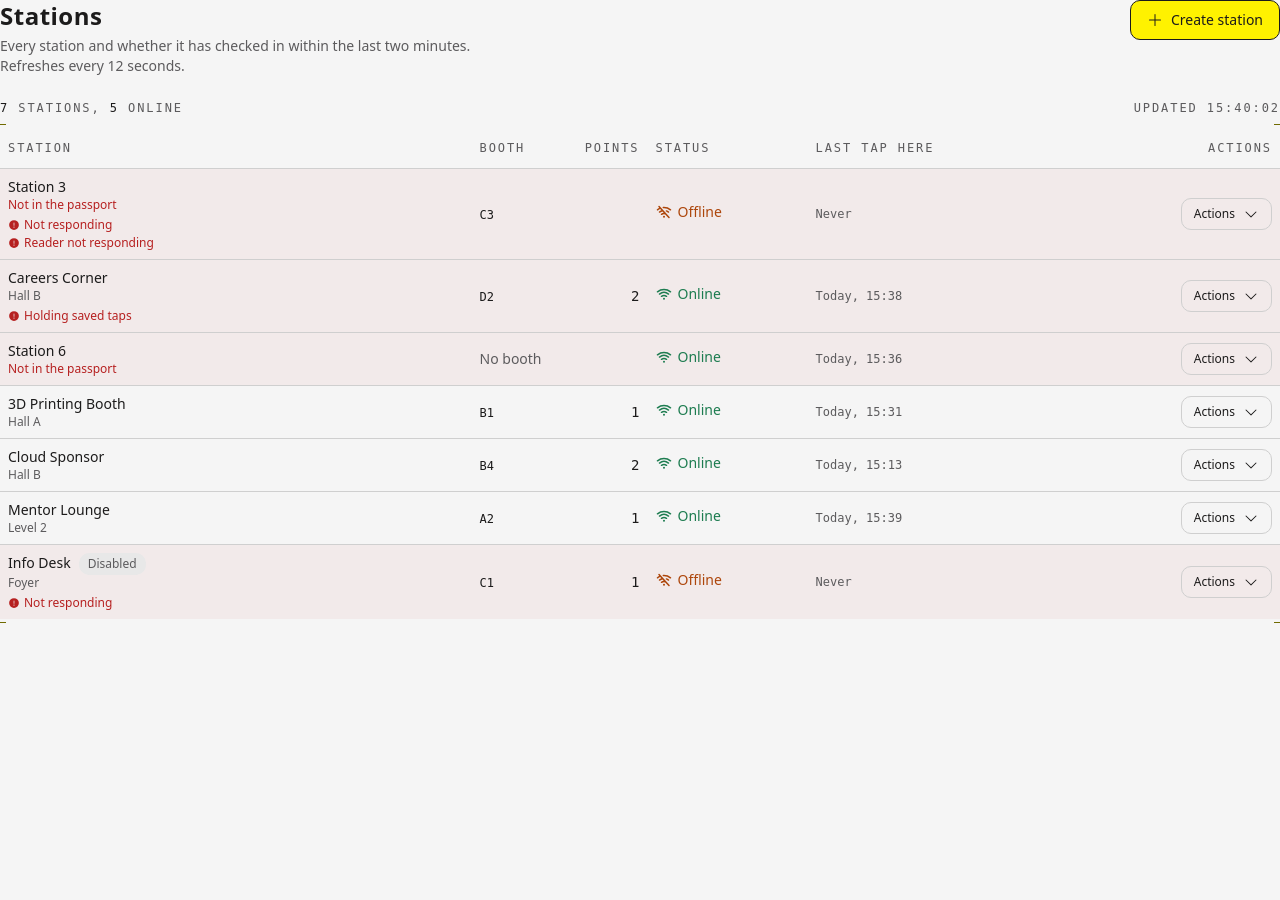
passport settings on the station board › shows a field error for a link that is not https
The width and height of the screenshot is (1280, 900).
Step 1. Click the button "Actions" in the row of "3D Printing Booth" → (1226, 412), box [1181, 396, 1272, 428]
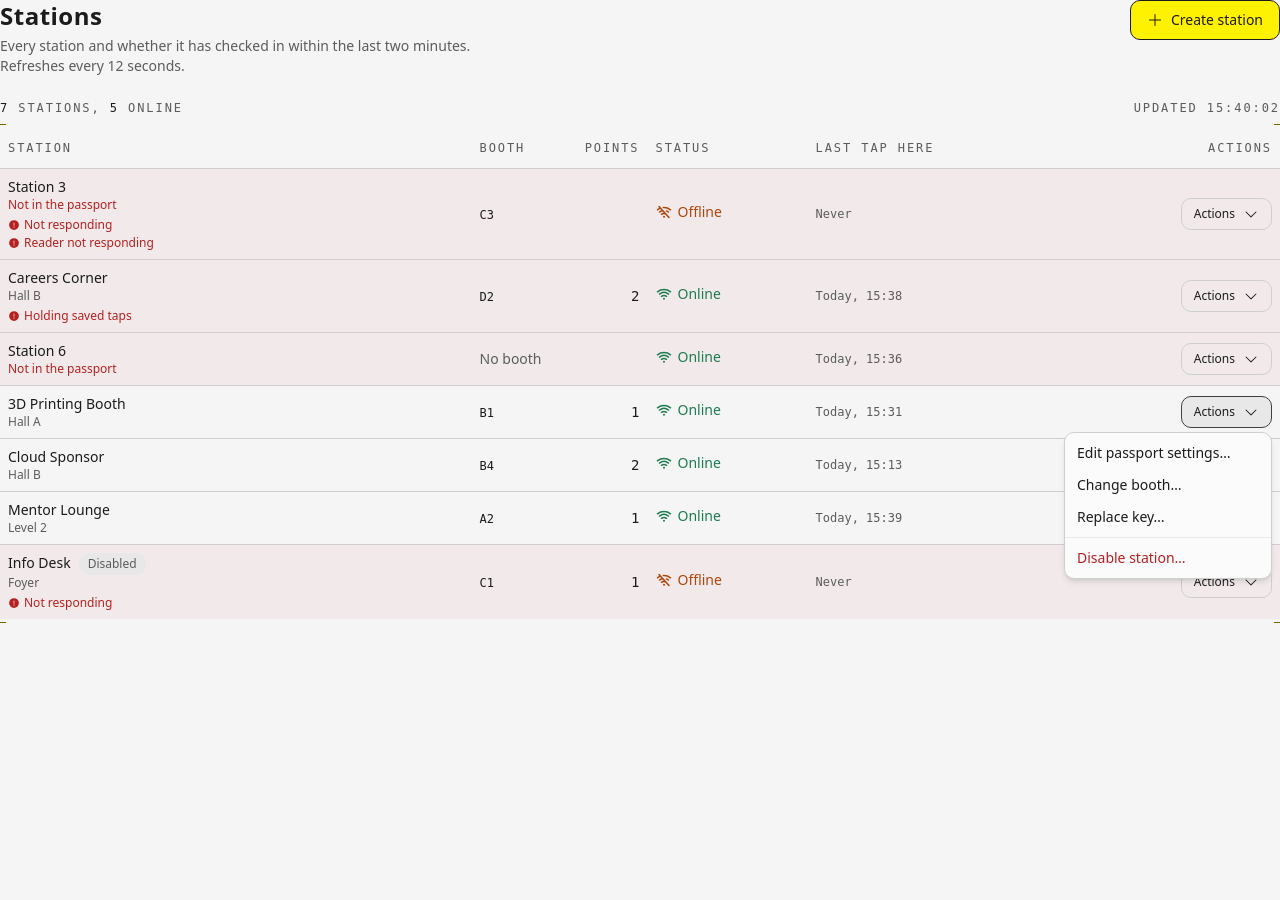
expect the menu is shown: met, box [1064, 432, 1272, 579]
Step 2. Click the menu item "Edit passport settings…" → (1154, 452), box [1077, 443, 1230, 462]
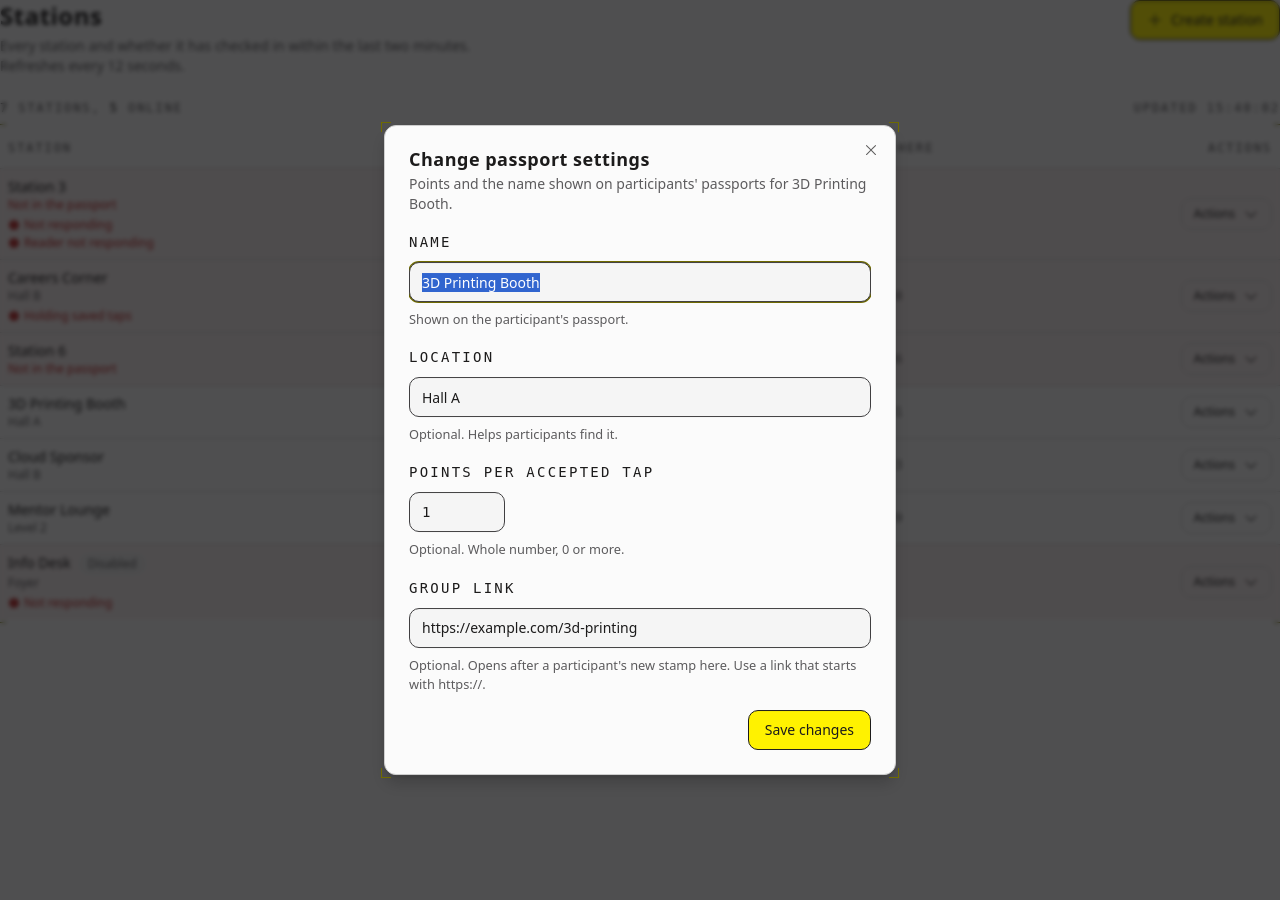
Step 3. Replace the text in the field labelled "Group link" with "http://example.com/careers" → (640, 628), box [409, 608, 871, 648]
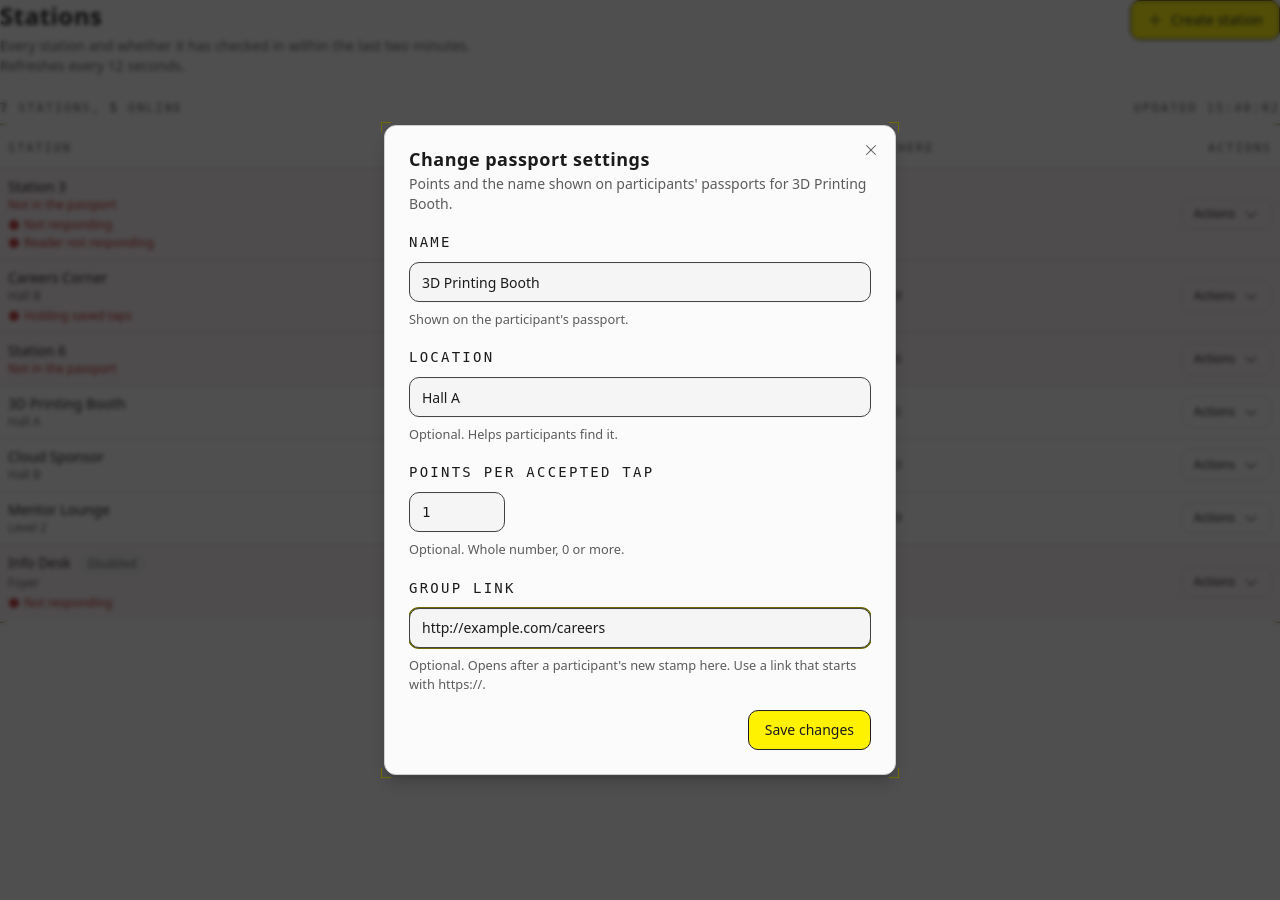
Step 4. Click the button "Save changes" → (809, 730), box [748, 710, 871, 750]
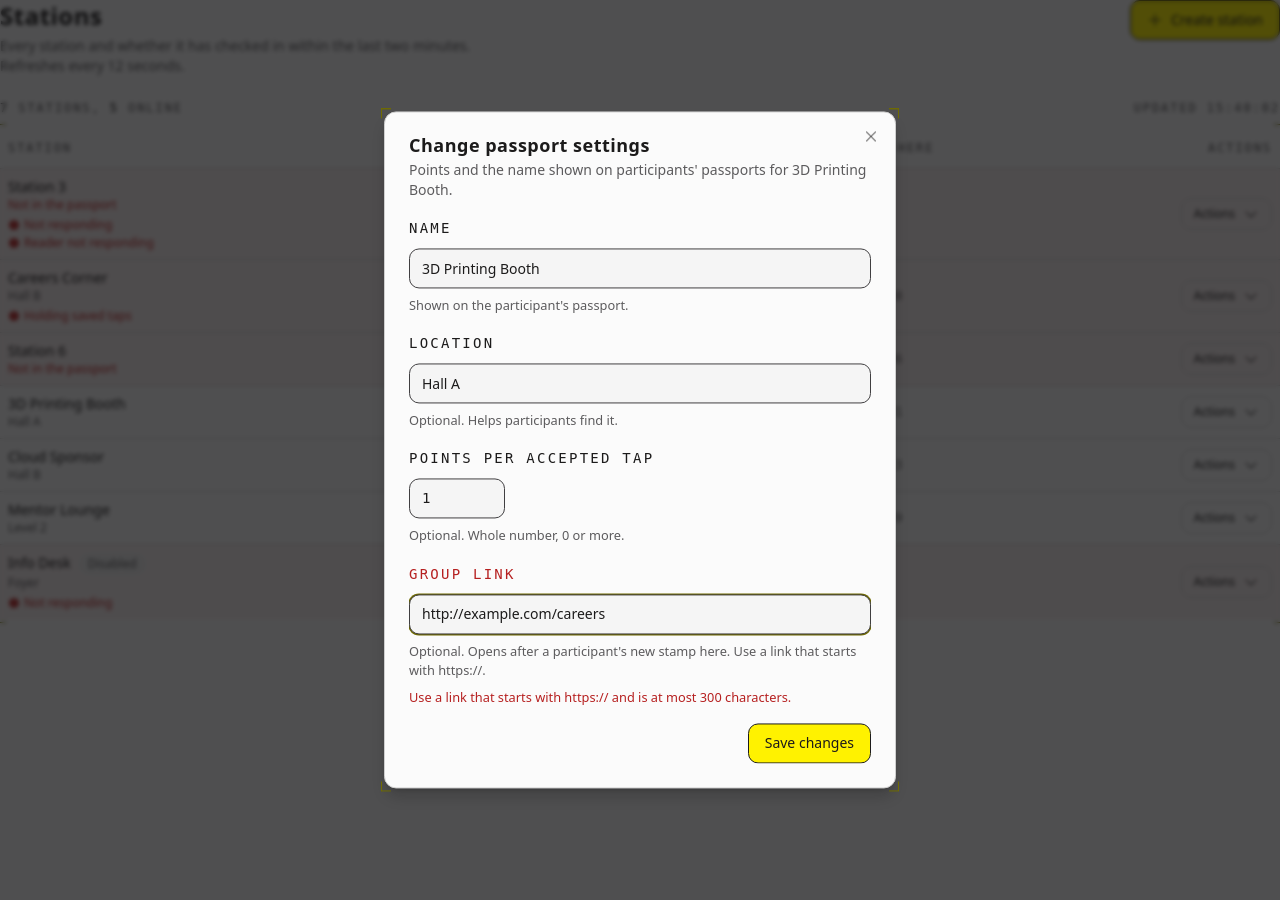
expect the dialog is shown: met, box [384, 111, 896, 788]
expect the text "Use a link that starts with https:// and is at most 300 characters." is shown: met, box [409, 688, 791, 706]
